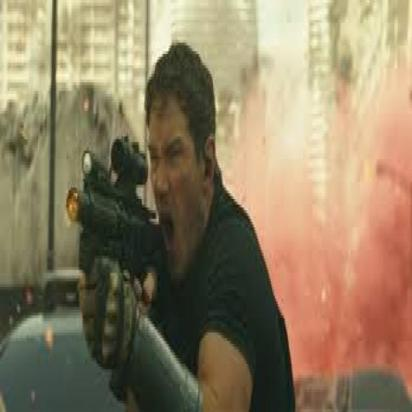Gun: (66, 137, 164, 296)
